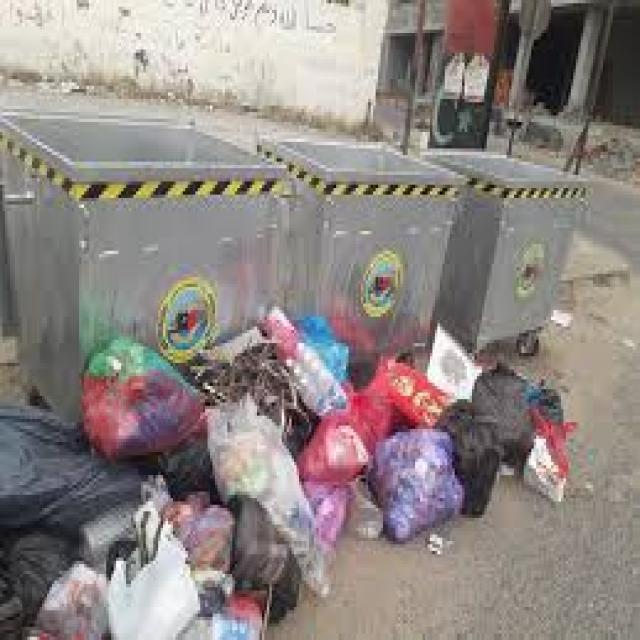garbage: (2, 130, 594, 632)
